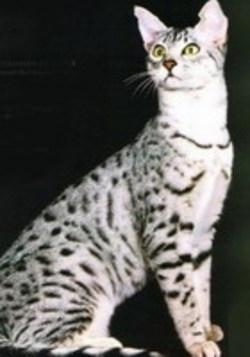cat-Egyptian_Mau: (132, 0, 227, 90)
